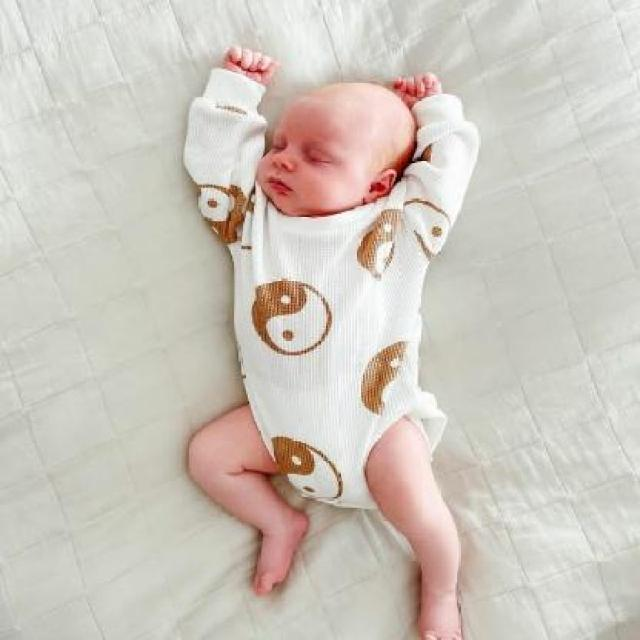baby: (180, 39, 478, 638)
